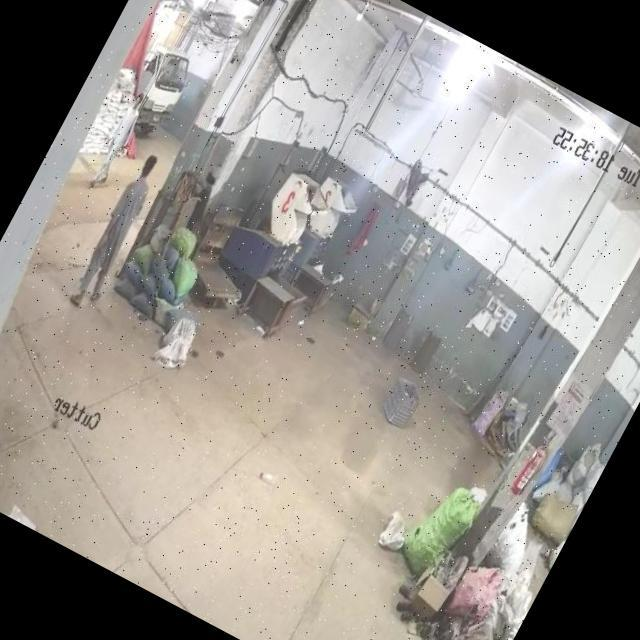person: (60, 150, 164, 316), (80, 89, 148, 194)
